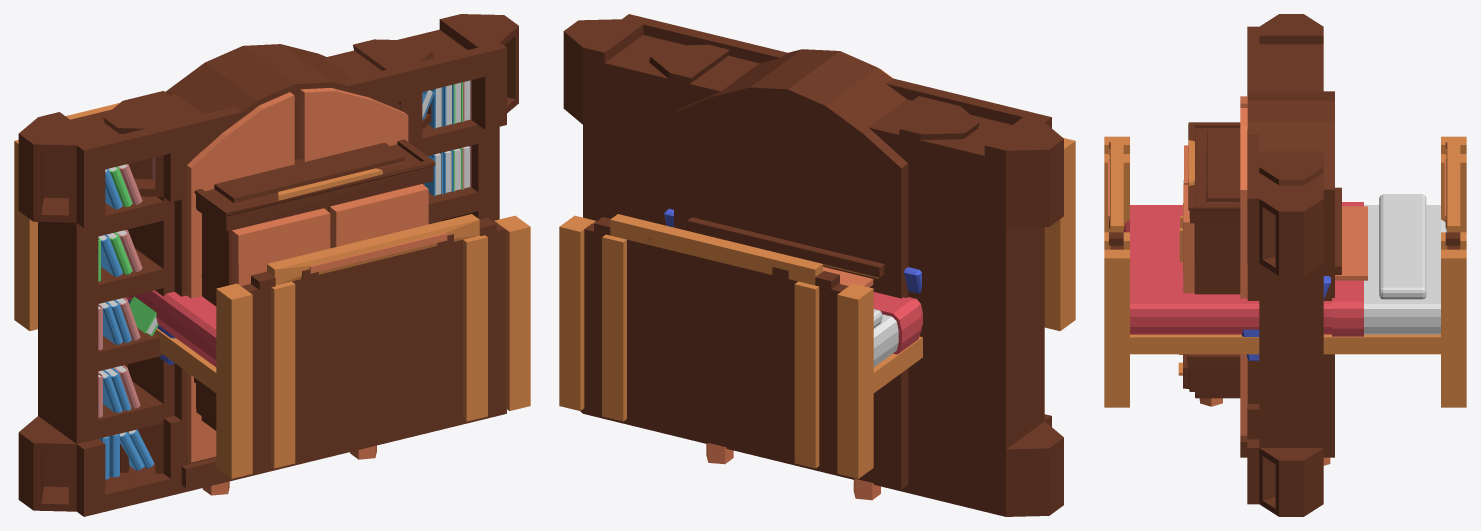
The model's file is furniture.fbx.
The picture shows the model from 3 angles, left to right: view 1: azimuth 30°, elevation 25°; view 2: azimuth 150°, elevation 25°; view 3: azimuth 270°, elevation 25°; orthographic projection. The views are drawn at different scales.
Parts seen in each view (by area): view 1: bookcasebig, singlebed, doublebed, bigcabinet, smallcabinet, bookcasesmall, booksforbigbookcase; view 2: bookcasebig, doublebed, bigcabinet, singlebed, bookcasesmall, dinnertable; view 3: doublebed, bookcasebig, smallcabinet, bigcabinet, singlebed, bookcasesmall, coffeetable01, dinnertable.
Part boxes in pixels (x1=…): bookcasebig: x1=18, y1=14, x2=518, y2=516; singlebed: x1=108, y1=103, x2=487, y2=468; doublebed: x1=14, y1=104, x2=530, y2=478; bigcabinet: x1=166, y1=44, x2=413, y2=495; smallcabinet: x1=194, y1=139, x2=435, y2=430; bookcasesmall: x1=103, y1=39, x2=433, y2=487; booksforbigbookcase: x1=98, y1=80, x2=471, y2=479; bookcasebig: x1=563, y1=14, x2=1063, y2=516; doublebed: x1=559, y1=138, x2=1075, y2=478; bigcabinet: x1=674, y1=49, x2=908, y2=500; singlebed: x1=602, y1=224, x2=819, y2=468; bookcasesmall: x1=649, y1=44, x2=979, y2=488; dinnertable: x1=687, y1=217, x2=884, y2=278; doublebed: x1=1104, y1=136, x2=1466, y2=407; bookcasebig: x1=1247, y1=14, x2=1323, y2=516; smallcabinet: x1=1178, y1=122, x2=1240, y2=406; bigcabinet: x1=1240, y1=91, x2=1334, y2=465; singlebed: x1=1104, y1=154, x2=1466, y2=286; bookcasesmall: x1=1247, y1=52, x2=1323, y2=439; coffeetable01: x1=1335, y1=206, x2=1367, y2=280; dinnertable: x1=1335, y1=187, x2=1341, y2=276.
Size of the model in its own units: 567 by 442 by 439.
